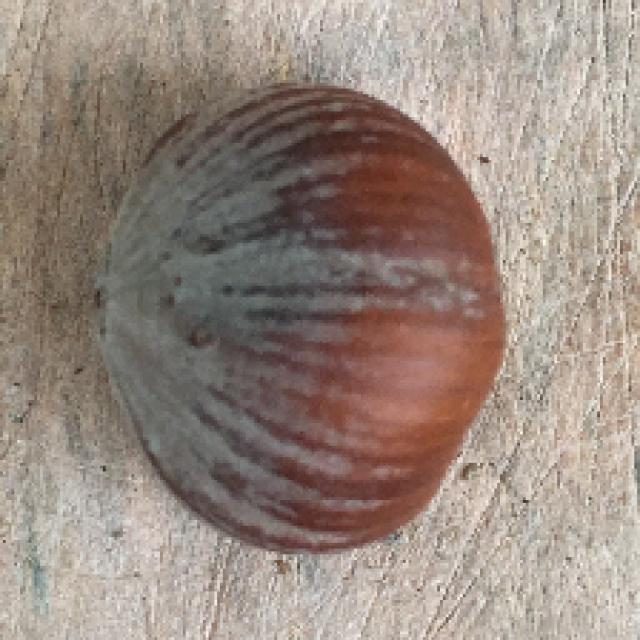qualityHazelnut: (106, 80, 502, 564)
